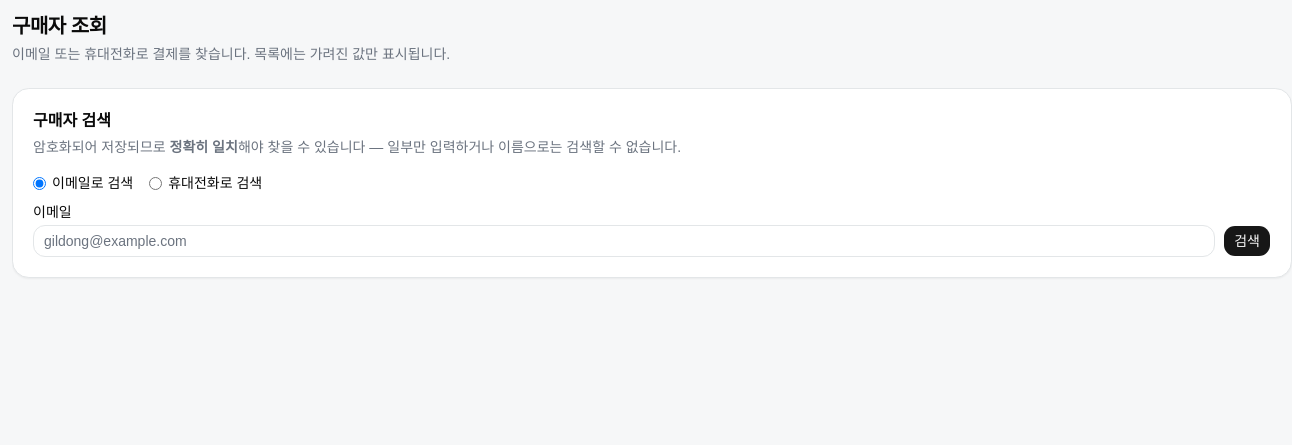
Test: PaymentCustomerSearchPage › 결과가 없으면 오류가 아니라 없다고 알려준다
Type "nobody@example.com" into the field labelled "이메일" at (624, 241), box [33,225,1215,257]
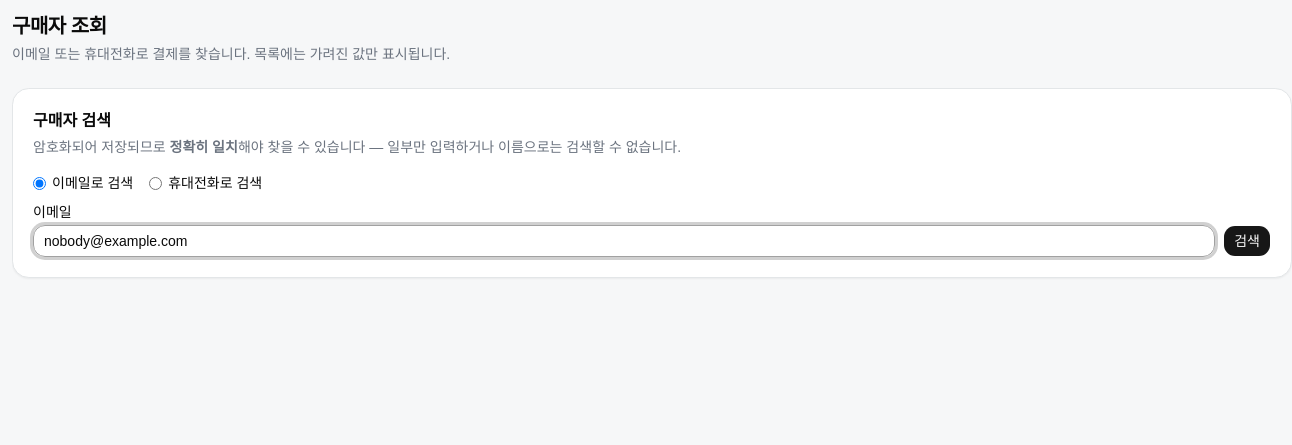
Click the button "검색" at (1247, 241), box [1223,225,1271,257]
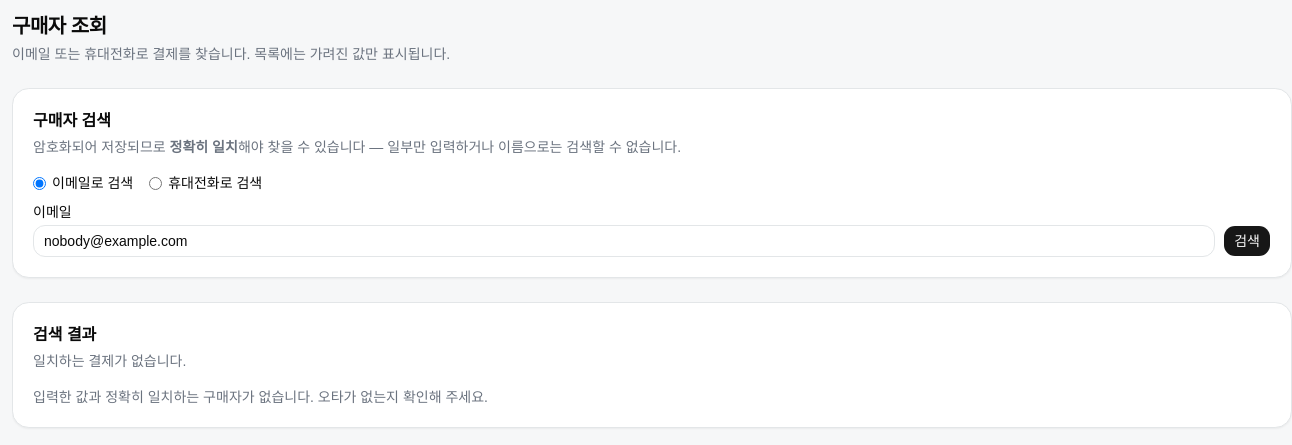
Expected: the text "입력한 값과 정확히 일치하는 구매자가 없습니다. 오타가 없는지 확인해 주세요." is shown, [33,389,488,405]
